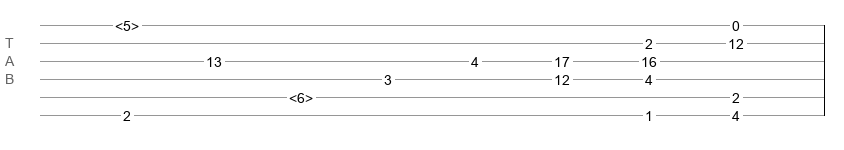0: (732, 18, 740, 28)
1: (645, 108, 653, 118)
12: (554, 72, 570, 82), (728, 36, 744, 46)
13: (206, 54, 222, 64)
16: (641, 54, 657, 64)
17: (554, 54, 570, 64)
2: (123, 108, 131, 118), (645, 36, 653, 46), (732, 90, 740, 100)
3: (384, 72, 392, 82)
4: (471, 54, 479, 64), (645, 72, 653, 82), (732, 108, 740, 118)
harmonic: (115, 18, 139, 28), (289, 90, 313, 100)
